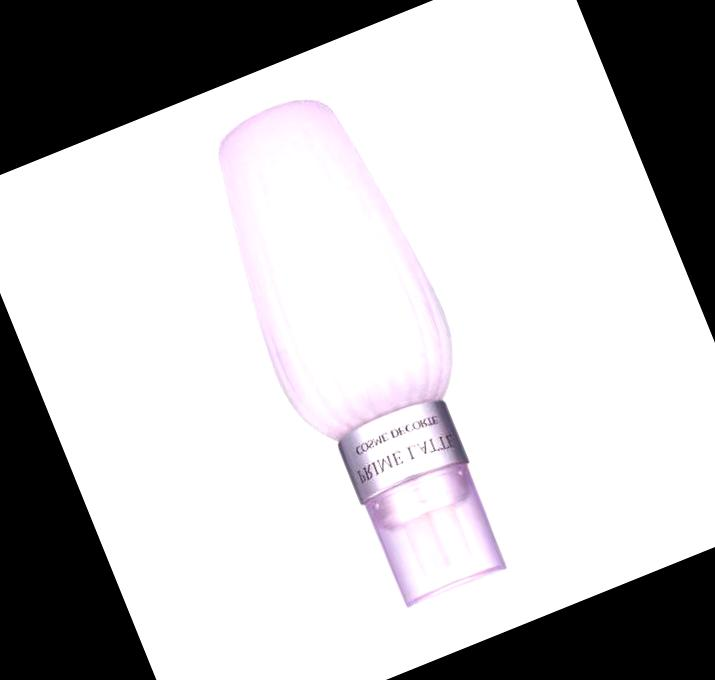cosmetic: (192, 73, 539, 622)
